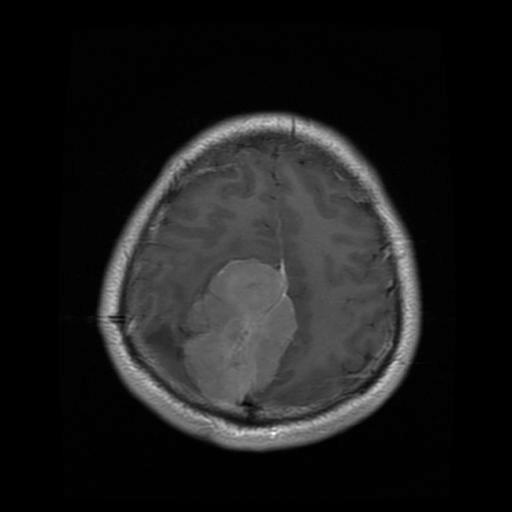Tumour-Meningioma: (156, 245, 319, 417)
